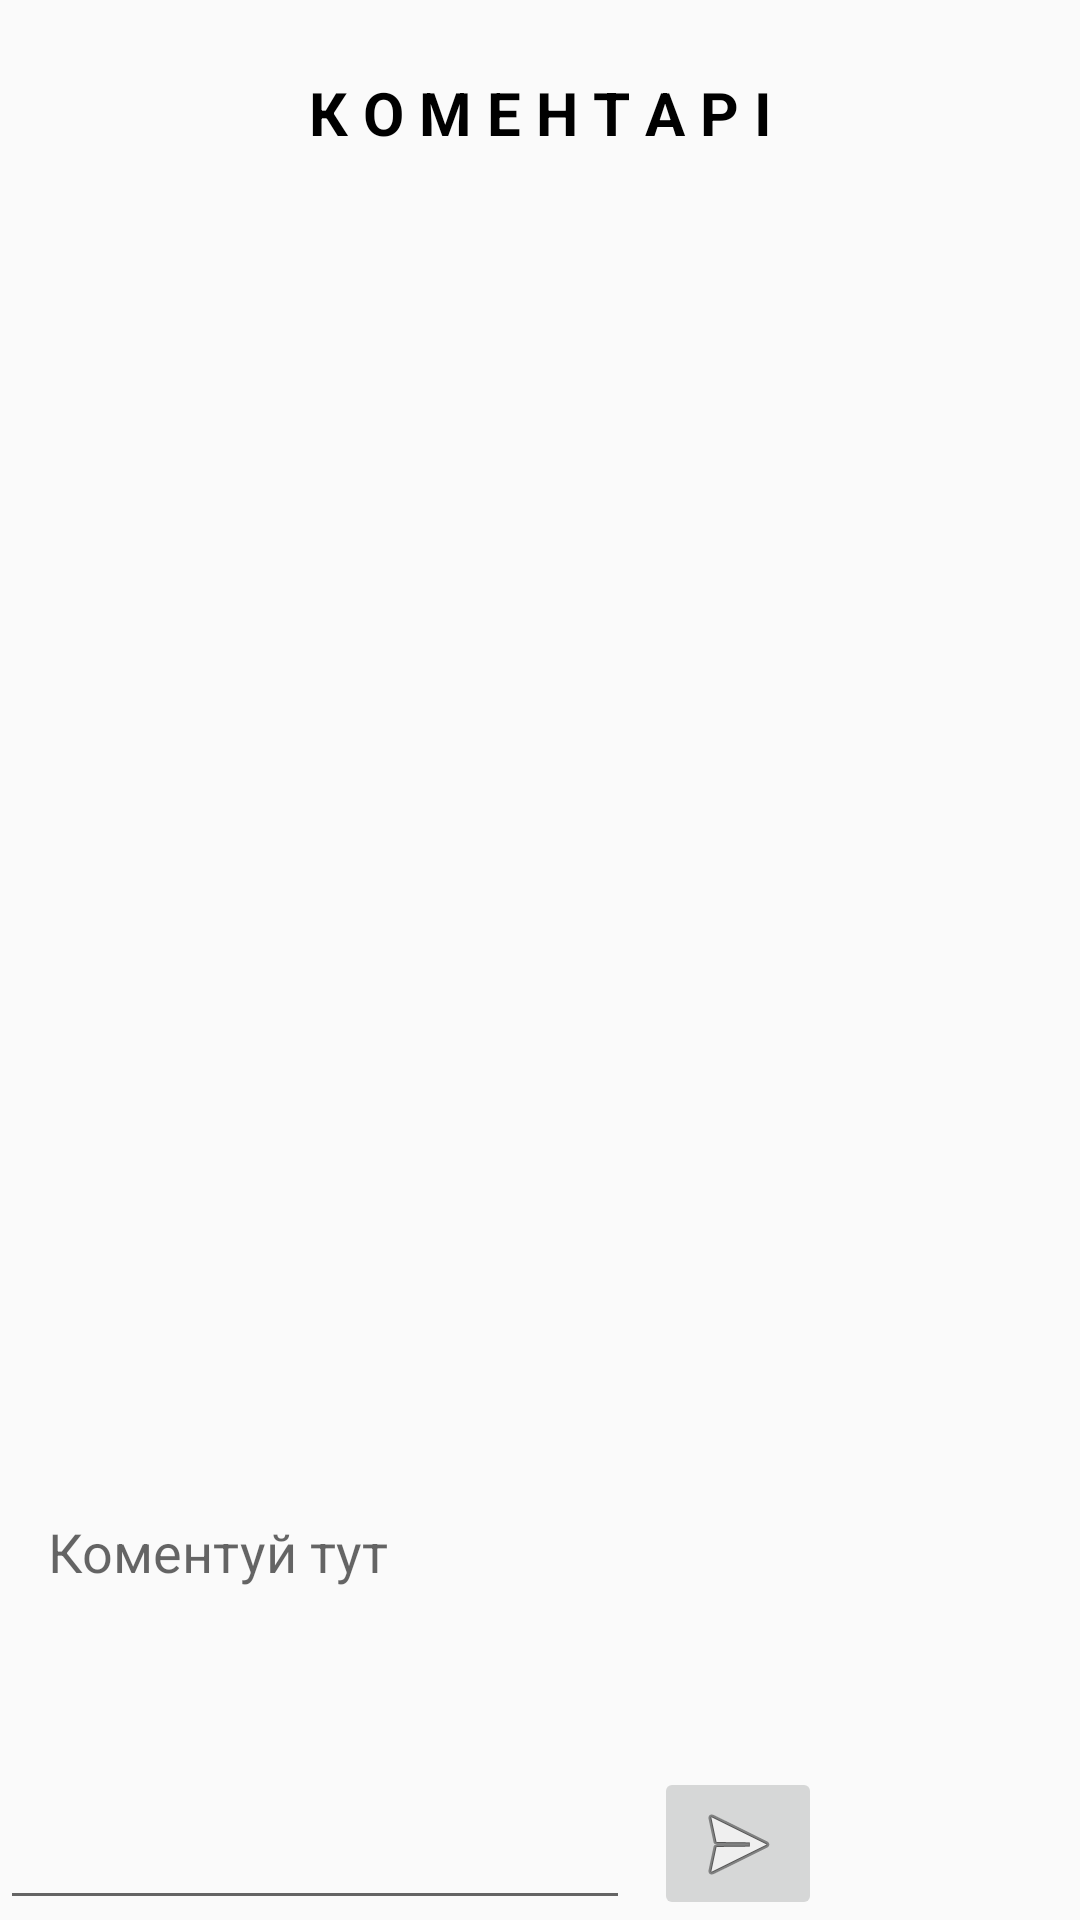

Screen size 1080 × 1920. Icon name, then its box in pixels as (x1, y1, x2, y2):
send: (666, 1785, 810, 1902)
